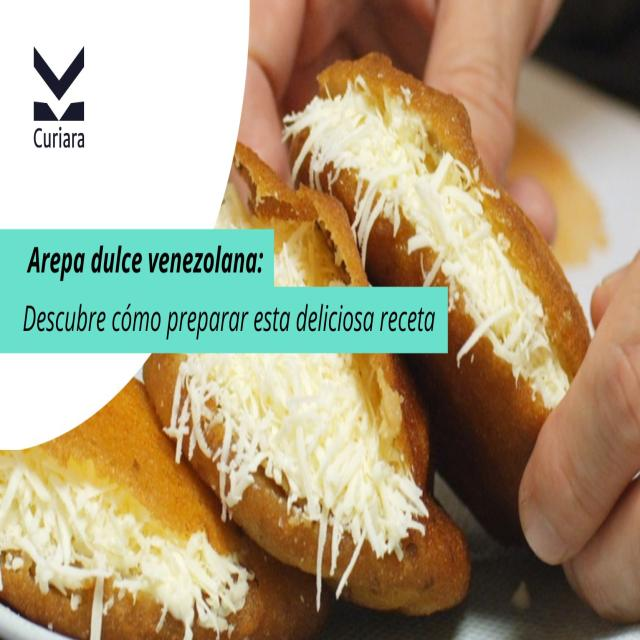arepa: (314, 44, 541, 288)
